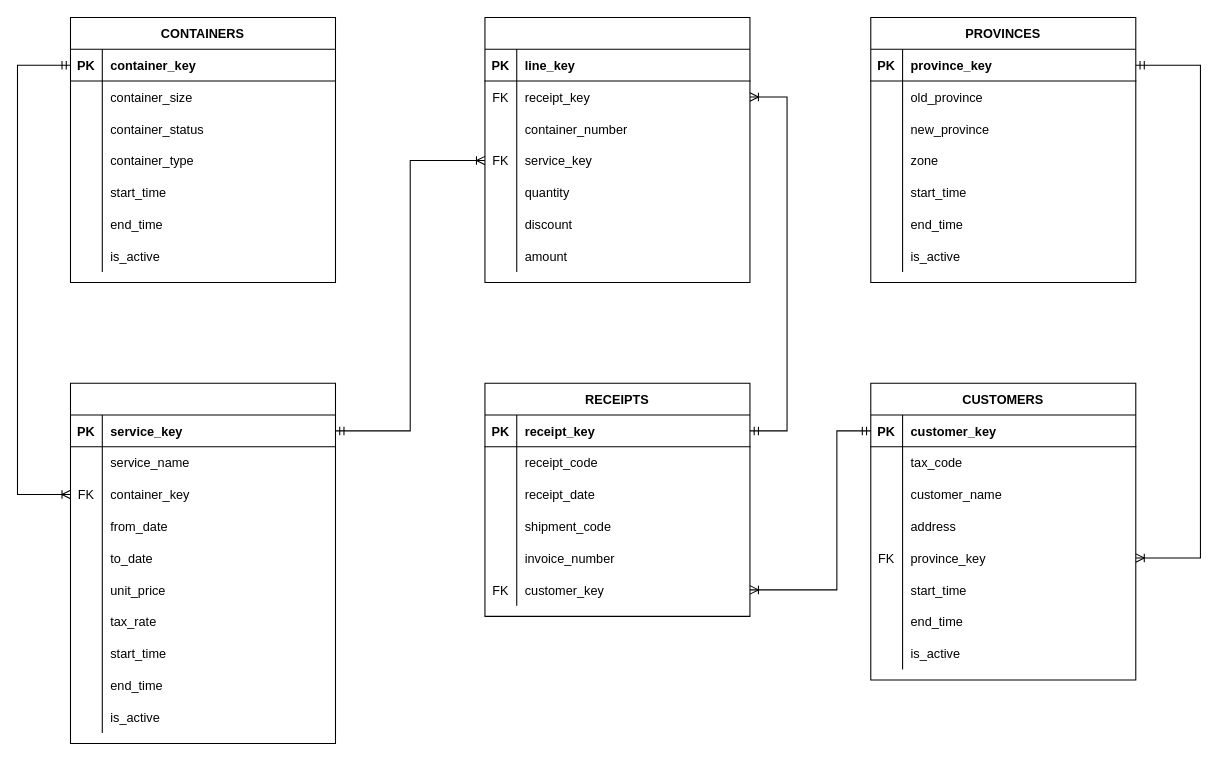
This 1218x761 diagram has some shape labels left out. The shapes that lost their labels are listed below. From the top down, each one's box as (x1, y1, x2, y2) in pixels, then its label:
(484, 16, 750, 282): LINES
(69, 382, 335, 744): SERVICES
